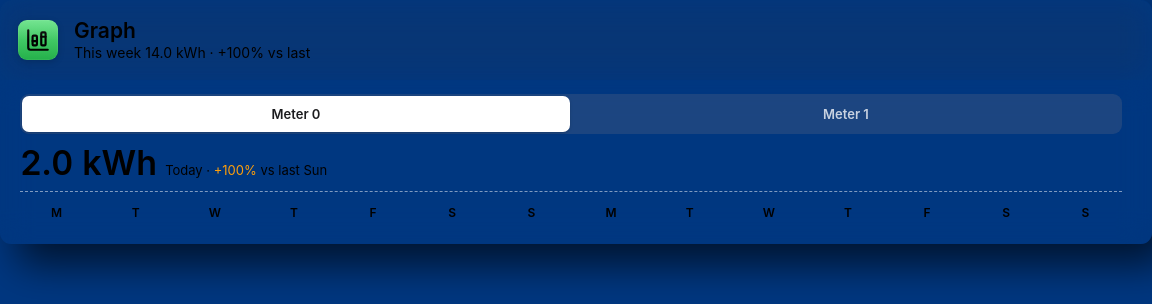
Test: Graph card › switches between sensors with different units
Check: the text "This week 14.0 kWh · +100% vs last" is shown, box [74, 42, 310, 62]
Click the button "Meter 1": (846, 114) [572, 96, 1120, 132]
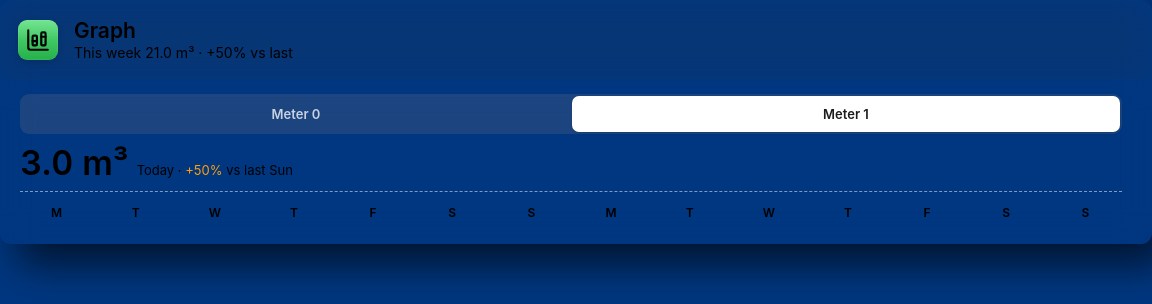
Check: the text "This week 21.0 m³ · +50% vs last" is shown, box [74, 42, 293, 62]
